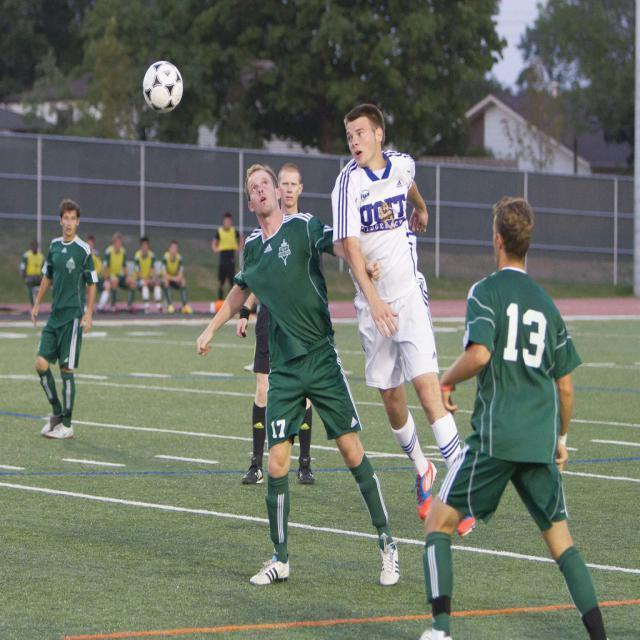football: (128, 56, 197, 117)
